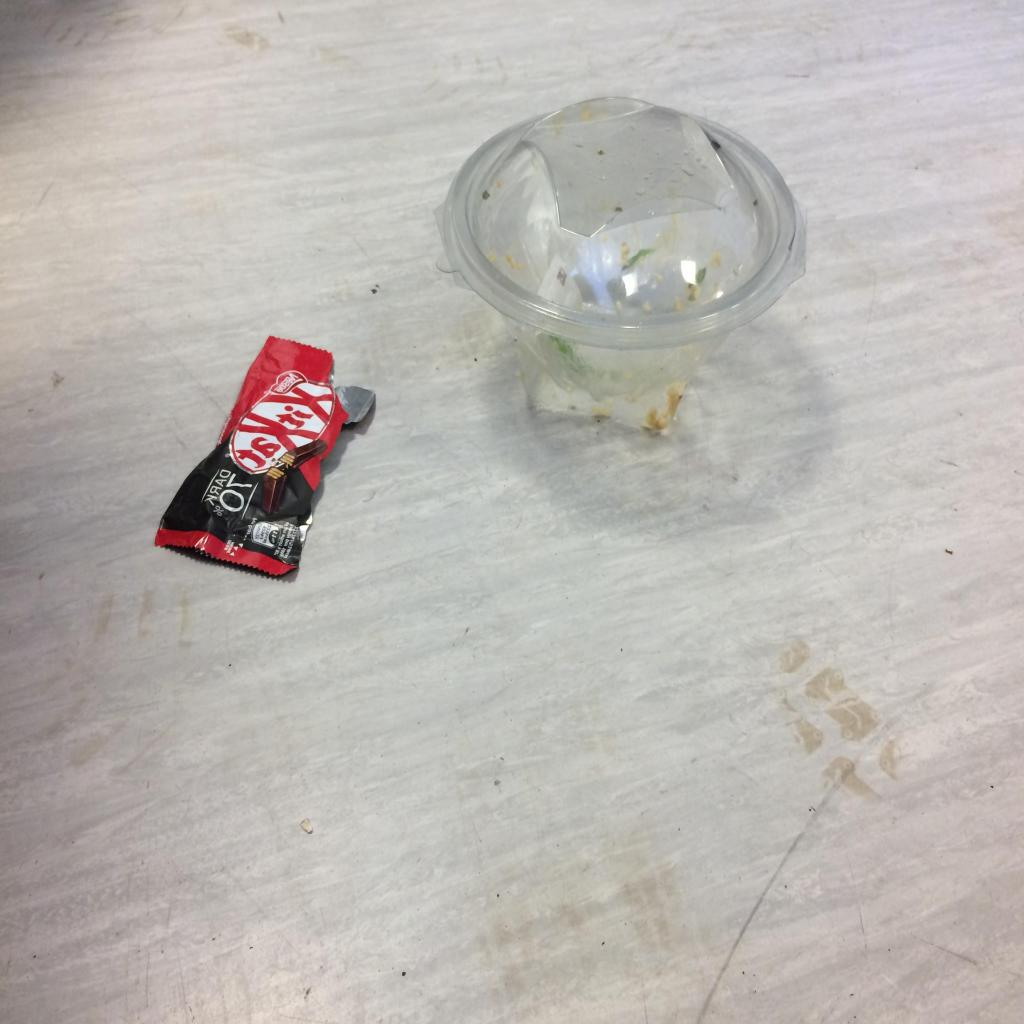Disposable food container: (434, 96, 808, 431)
Other plastic: (155, 336, 375, 576)
